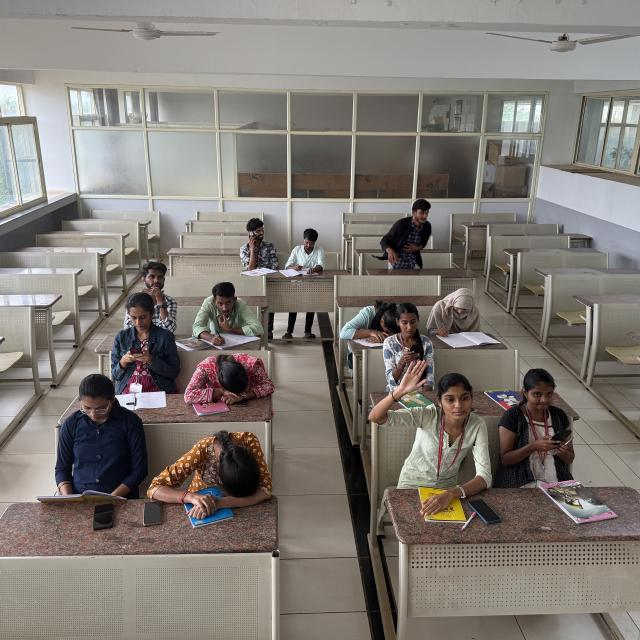Hand Rising: (376, 354, 492, 481)
Reading: (41, 374, 144, 505)
Sleeping: (153, 431, 271, 505), (188, 349, 274, 405), (341, 296, 412, 346)
Using Phone: (498, 365, 584, 468), (103, 290, 175, 380), (382, 303, 433, 383), (238, 215, 281, 268)
Writing: (196, 278, 266, 348), (431, 288, 495, 351), (286, 226, 326, 275)
